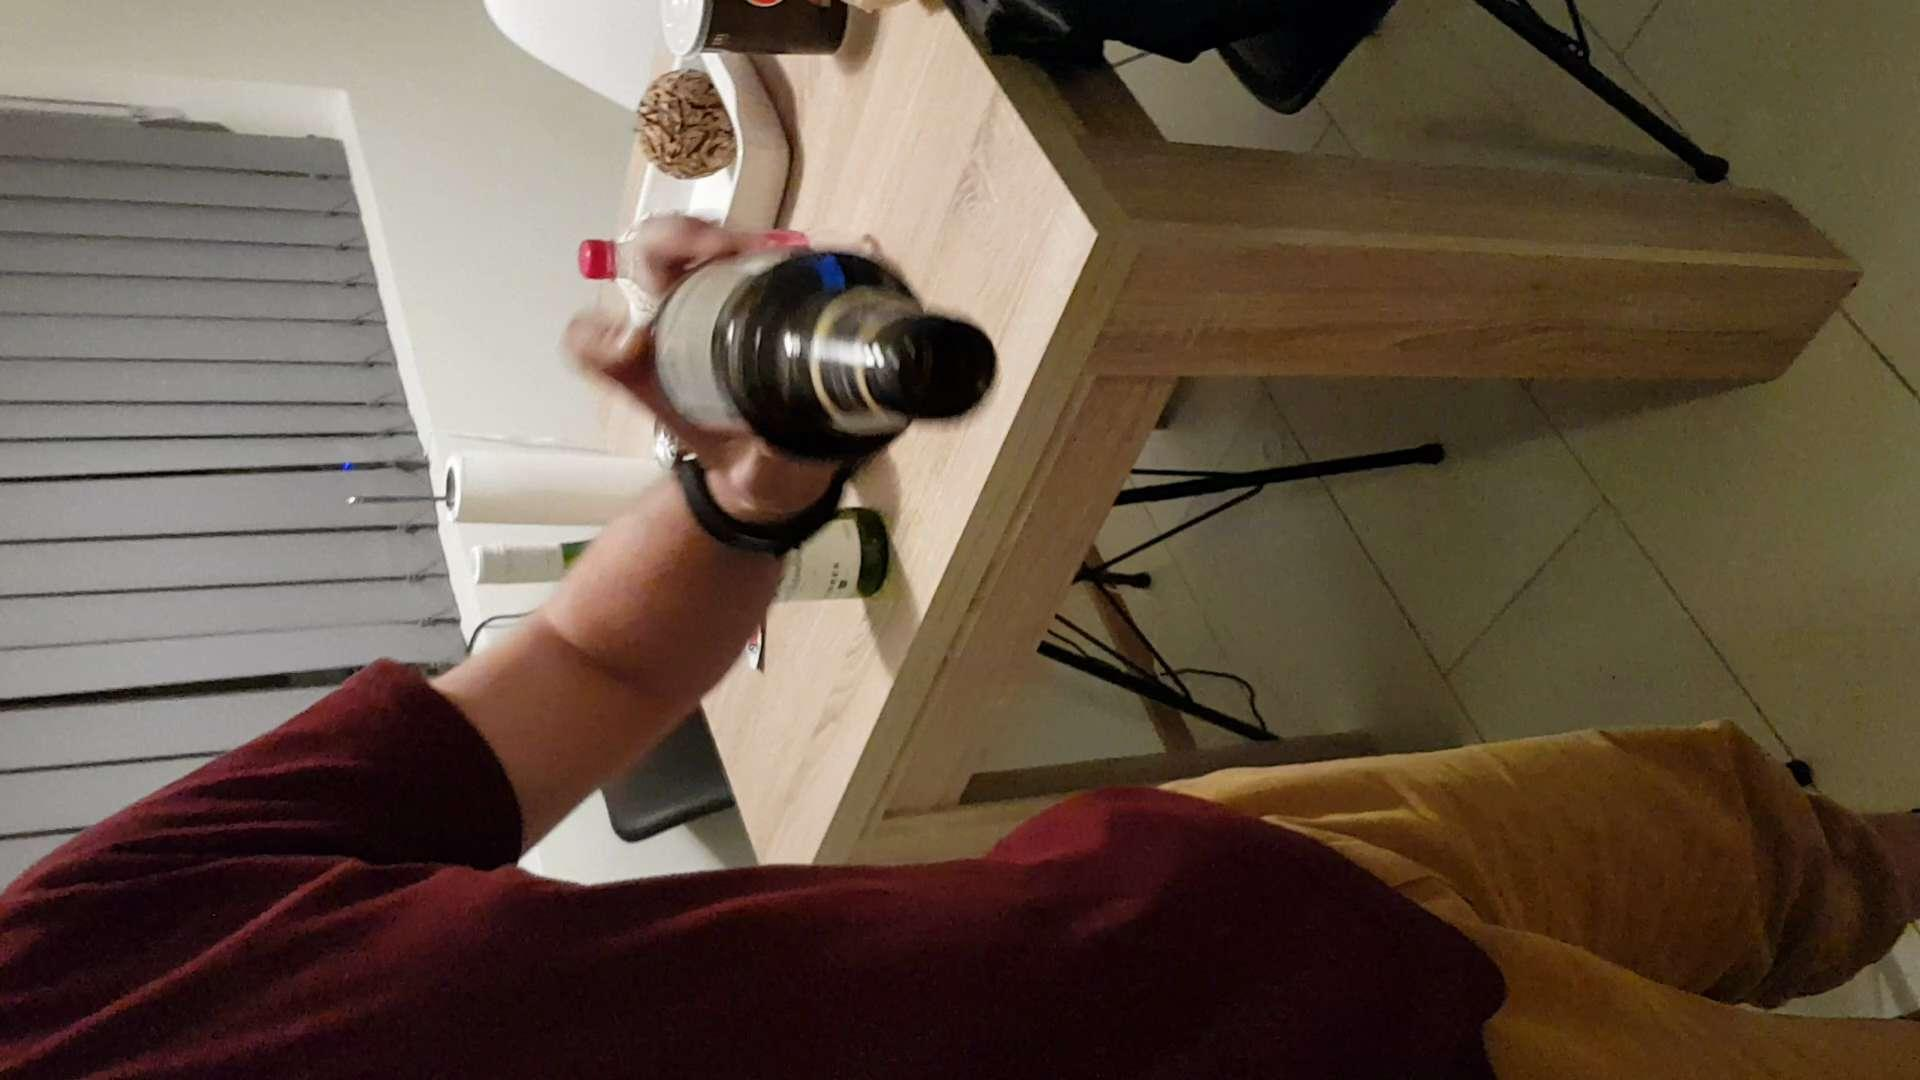Bottle: (624, 233, 1002, 473)
Sphere: (624, 67, 746, 173)
